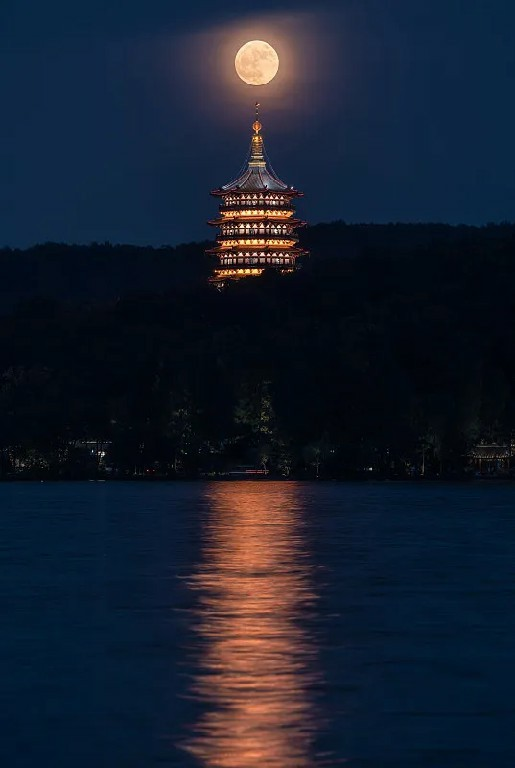Leifeng: (200, 101, 308, 289)
